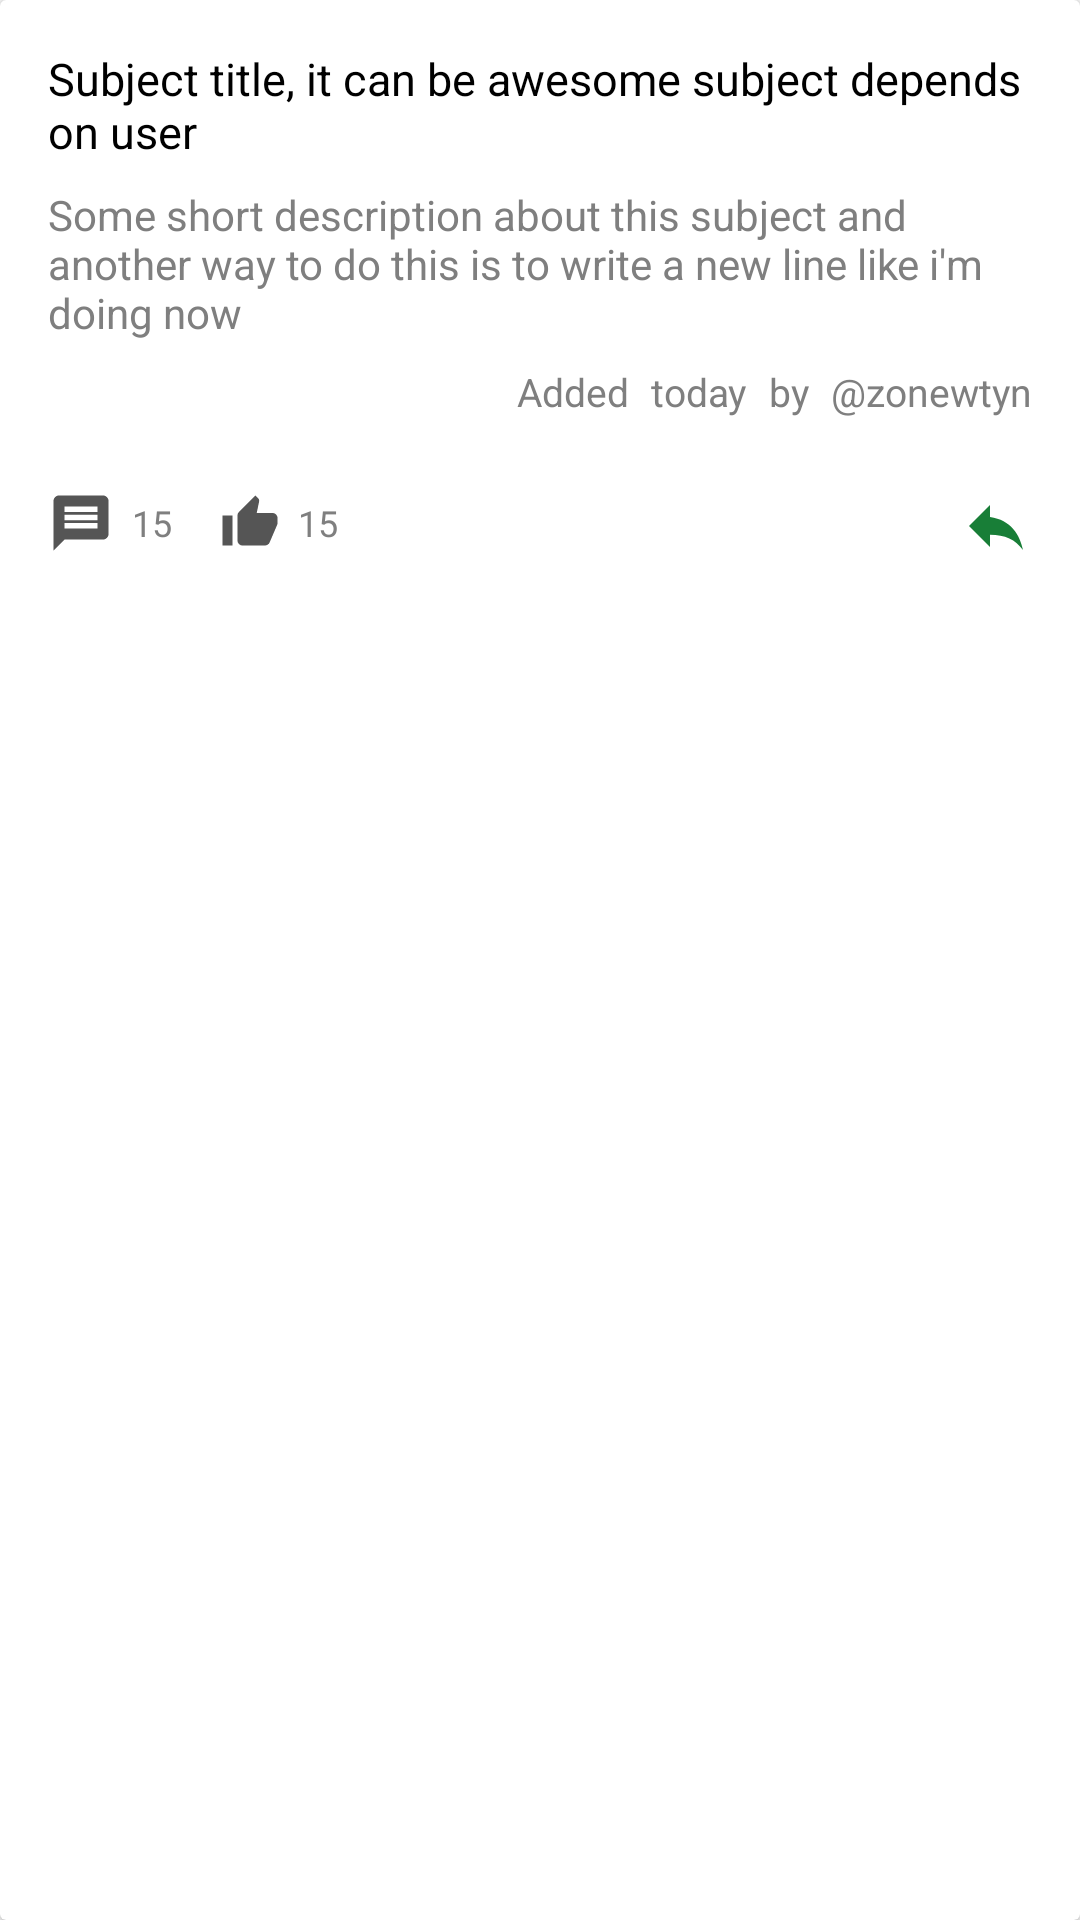

Point at icon controls on the screen. Image size 1080 × 1920, points as (x,y).
message: (81,523)
reply: (996,527)
thumb up: (250,520)
